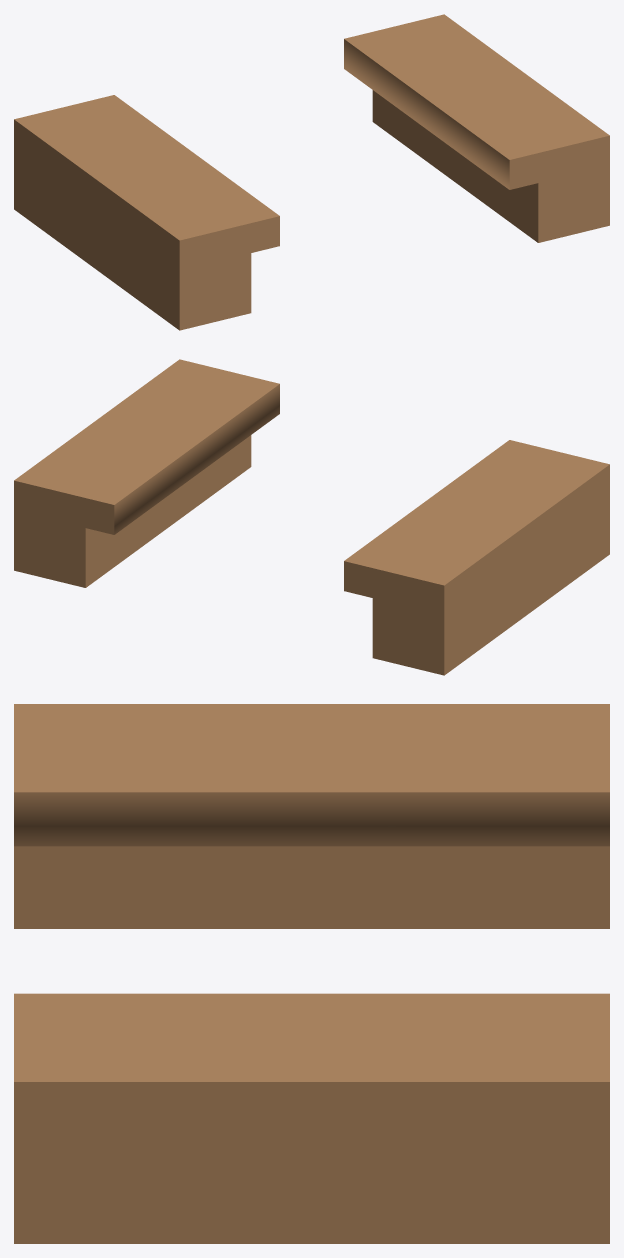
Rendered from station.glb.
The picture shows the model from 3 angles, top to bottom: view 1: azimuth 30°, elevation 25°; view 2: azimuth 150°, elevation 25°; view 3: azimuth 270°, elevation 25°; orthographic projection. The views are drawn at different scales.
Parts seen in each view (by area): view 1: station; view 2: station; view 3: station.
Part boxes in pixels (x1,y1,x2,y2): station: (14, 14, 609, 330); station: (14, 359, 609, 675); station: (14, 704, 609, 1243).
Size of the model in its own units: 1.5 by 0.3 by 1.
